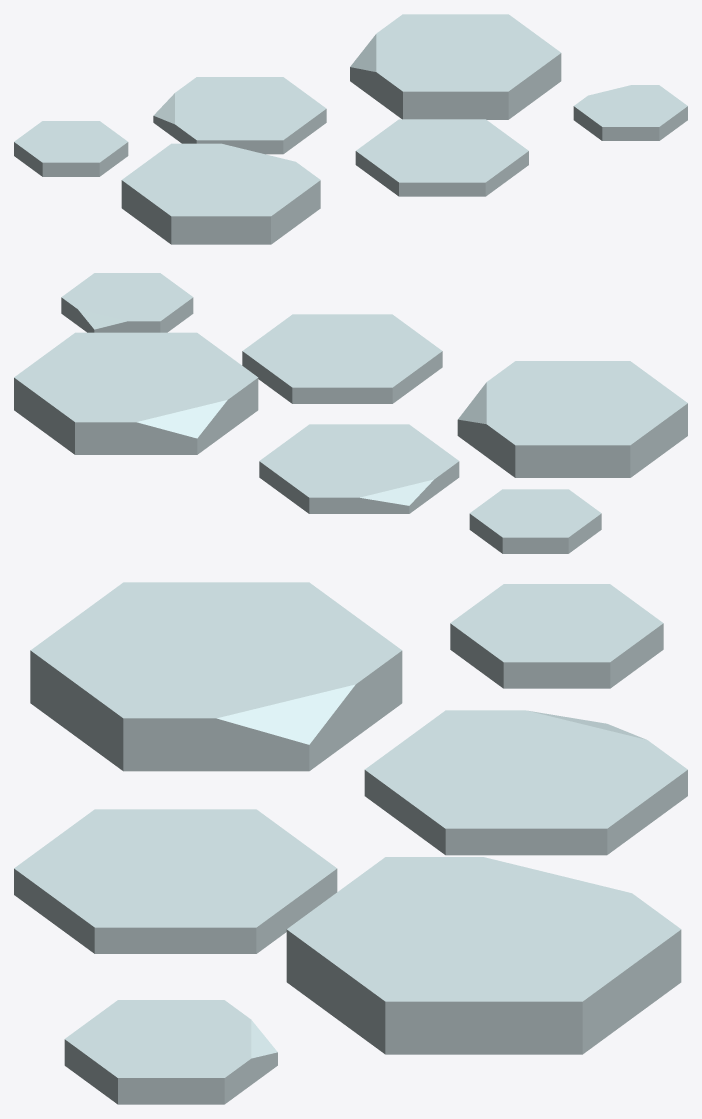
File: path_stone.glb
3 views of the same model, one above another, from view 1: azimuth 30°, elevation 25°; view 2: azimuth 150°, elevation 25°; view 3: azimuth 270°, elevation 25° (orthographic). The views are drawn at different scales.
Visible parts, largest first — view 1: path_stone; view 2: path_stone; view 3: path_stone.
Boxes of the visible parts, <box> form: path_stone: <box>14,14,687,244</box>; path_stone: <box>14,273,687,553</box>; path_stone: <box>14,582,687,1104</box>.
Bounding box in the file's own units: 1 × 0.05 × 0.5766.
Materials: 1 (1 with a texture image).
